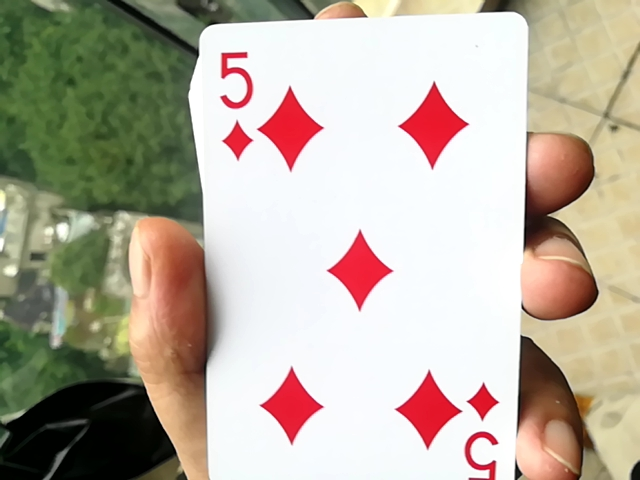fk 5: (171, 1, 528, 477)
